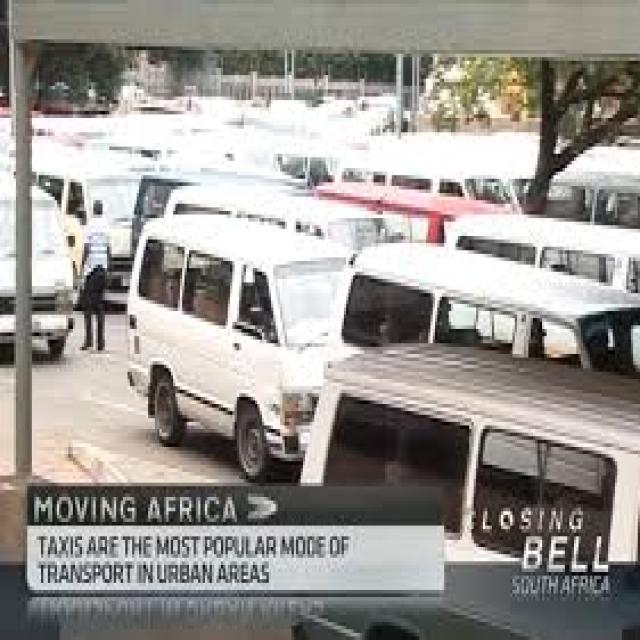MiniBus taxi: (125, 207, 333, 483), (2, 175, 71, 365)
Pedestrians: (77, 186, 107, 361)
